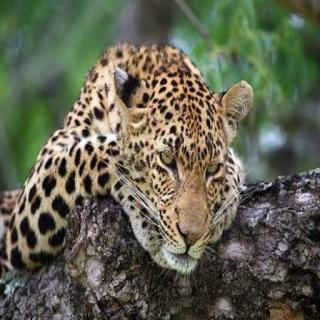Leopard: (0, 19, 272, 299)
